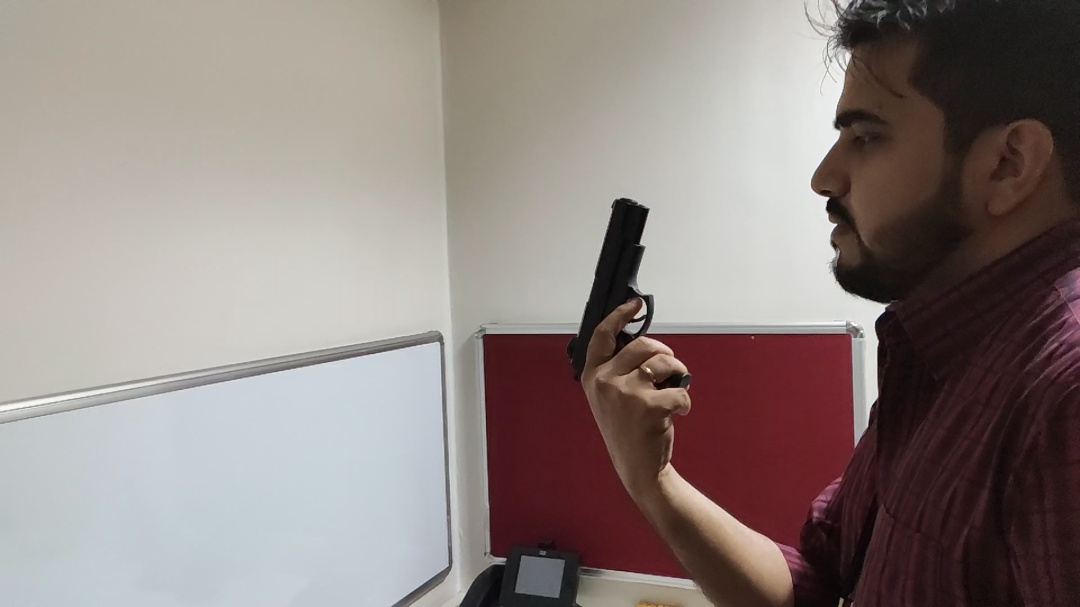gun: (567, 195, 696, 398)
